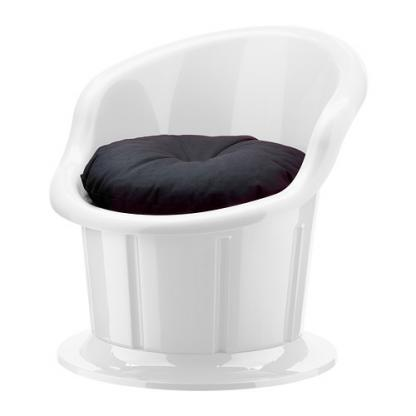Chair: (48, 22, 370, 390)
